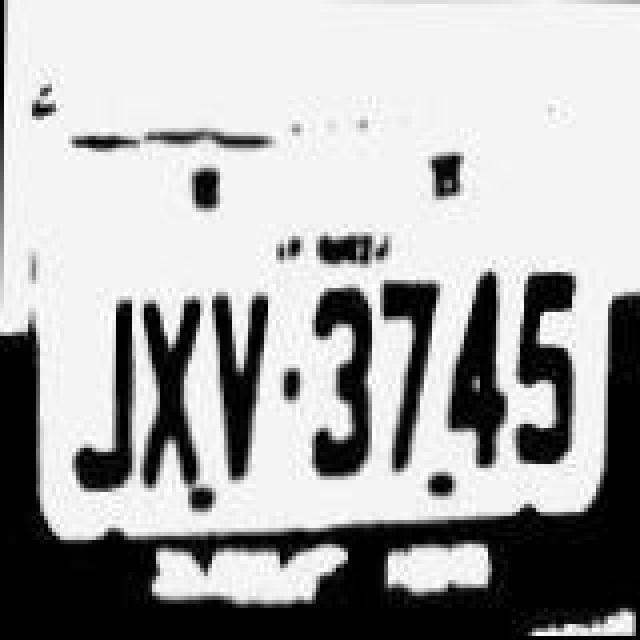3: (306, 274, 378, 498)
4: (442, 248, 518, 472)
5: (512, 234, 592, 470)
7: (378, 262, 446, 474)
J: (70, 292, 142, 516)
V: (206, 278, 278, 490)
X: (136, 258, 208, 486)
